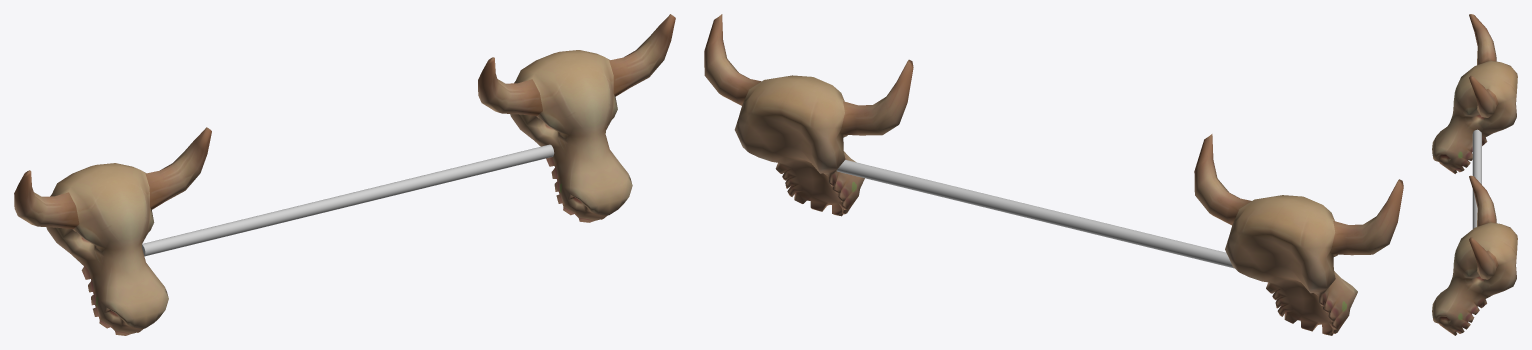
3 renders of one model, left to right at view 1: azimuth 30°, elevation 25°; view 2: azimuth 150°, elevation 25°; view 3: azimuth 270°, elevation 25°, orthographic. The views are drawn at different scales.
Visible parts, largest first — view 1: model_0, Cylinder; view 2: model_0, Cylinder; view 3: model_0, Cylinder.
Boxes of the visible parts, <box> form: model_0: <box>14,14,675,335</box>; Cylinder: <box>142,144,554,256</box>; model_0: <box>704,14,1403,335</box>; Cylinder: <box>836,159,1233,268</box>; model_0: <box>1432,14,1517,335</box>; Cylinder: <box>1472,129,1481,228</box>.
Size of the model in its own units: 2.14 by 0.5515 by 0.3408.
Materials: 2 (1 with a texture image).
